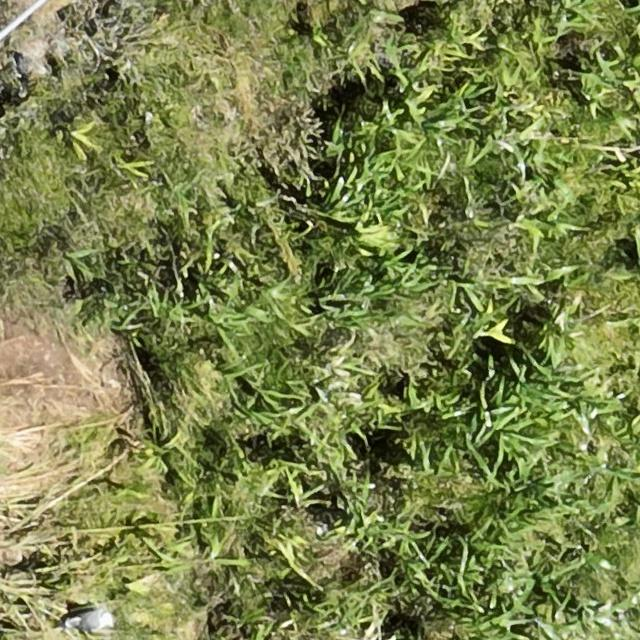umineko: (72, 610, 113, 630)
